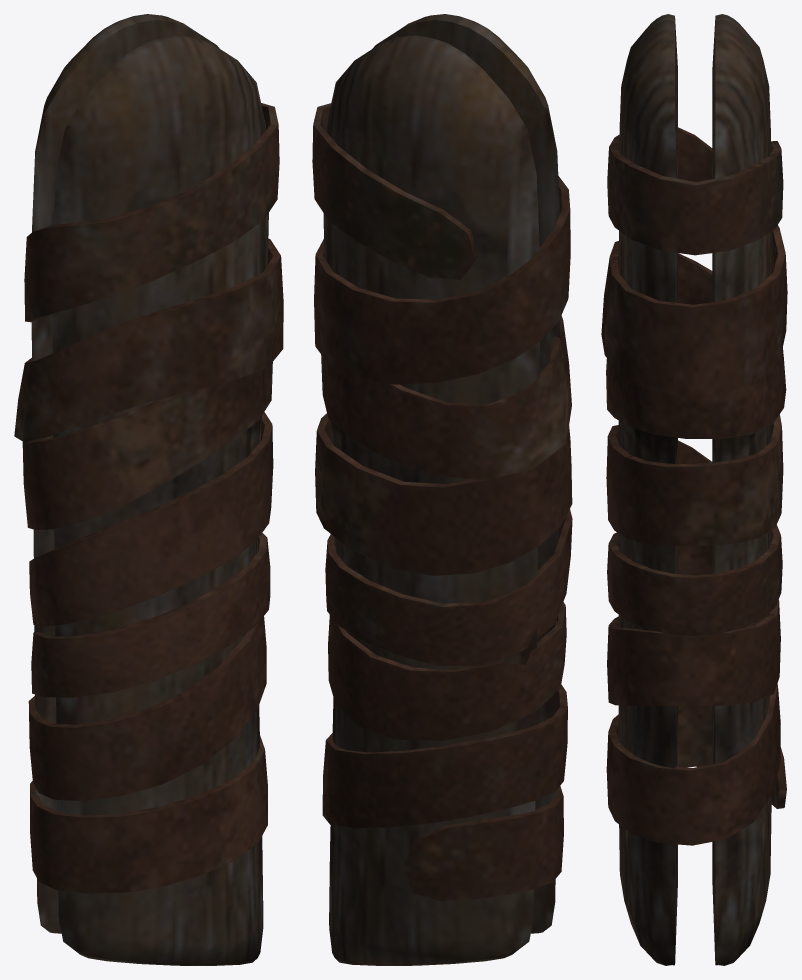
Rendered from wm_isengard_1h_sword_a02_handle.fbx.
The picture shows the model from 3 angles, left to right: view 1: azimuth 30°, elevation 25°; view 2: azimuth 150°, elevation 25°; view 3: azimuth 270°, elevation 25°; orthographic projection. The views are drawn at different scales.
Parts seen in each view (by area): view 1: wm_isengard_1h_sword_a02_handle; view 2: wm_isengard_1h_sword_a02_handle; view 3: wm_isengard_1h_sword_a02_handle.
Boxes of the visible parts, <box> form: wm_isengard_1h_sword_a02_handle: <box>14,14,283,965</box>; wm_isengard_1h_sword_a02_handle: <box>312,14,572,965</box>; wm_isengard_1h_sword_a02_handle: <box>601,14,787,965</box>.
Size of the model in its own units: 0.0588 by 0.0396 by 0.2122.
Materials: 1 (1 with a texture image).
